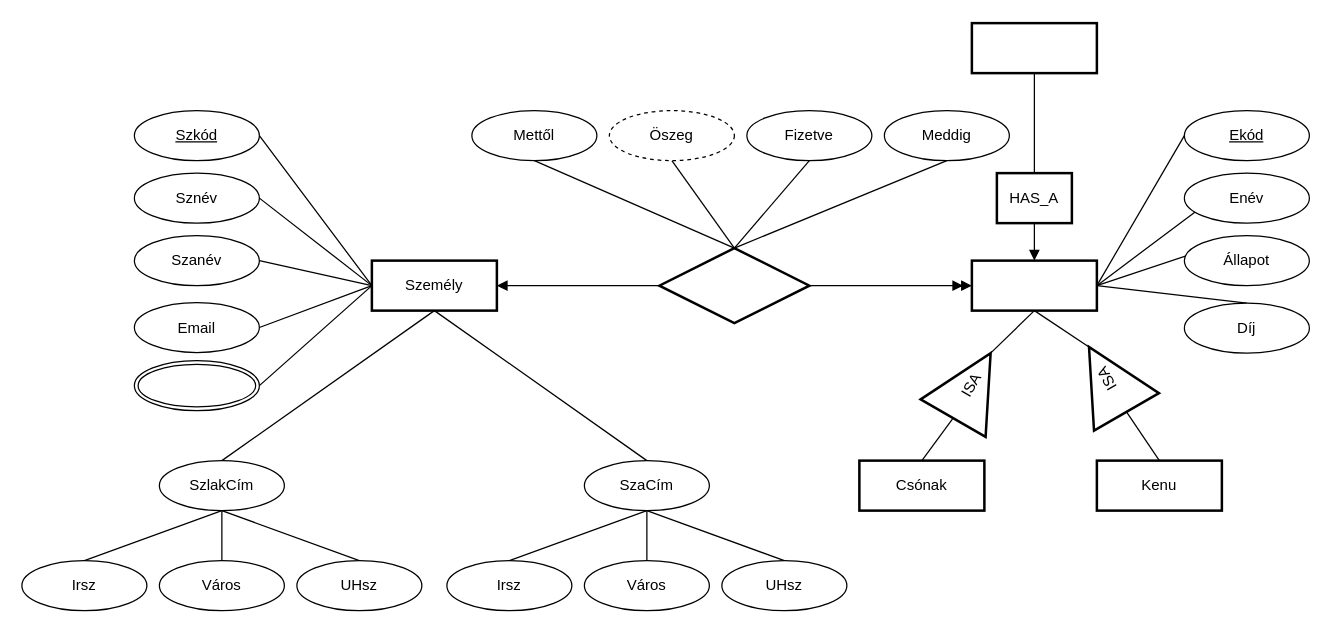
Some shapes in this 1331 by 633 pixel diagram are drawn without their labels. Here are the shapes that lost their labels. From the top down, the box of each, then its label:
(970, 21, 1098, 74): CsónakHáz
(658, 246, 810, 324): Kölcsönzés
(970, 259, 1098, 311): Eszköz
(133, 359, 259, 411): Telefon
